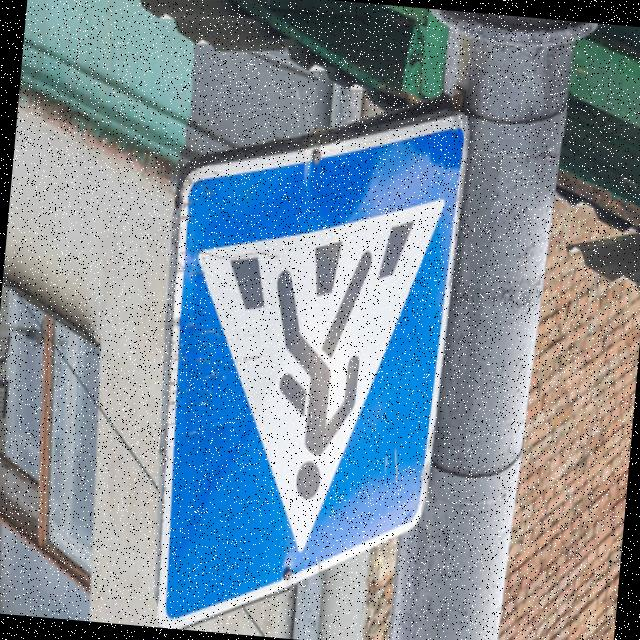crosswalk: (137, 71, 486, 640)
